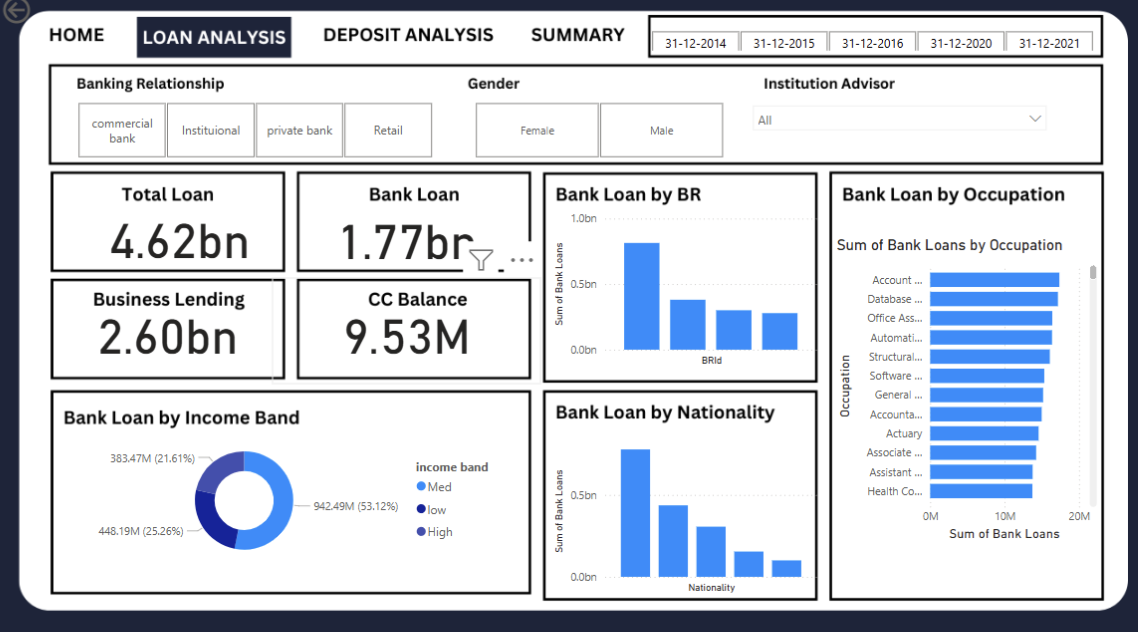

The page's visual inventory and layout, read from the dashboard file:
{"tool":"powerbi","page":{"name":"Loan Analysis","canvas":[1280,720],"ordinal":1},"visuals":[{"type":"card","fields":{"Values":["banking_case customer.Total Loan"]},"box":[52.1,211.6,300,118.4],"z":0},{"type":"slicer","fields":{"Values":["banking_case customer.Joined Bank"]},"box":[702.6,36.3,541.6,28.4],"z":1000},{"type":"actionButton","box":[37.9,20.5,104.2,61.6],"z":2000},{"type":"actionButton","box":[352.1,20.5,206.8,61.6],"z":3000},{"type":"actionButton","box":[570,20.5,146.8,61.6],"z":4000},{"type":"card","fields":{"Values":["Sum(banking_case customer.Bank Loans)"]},"box":[304.8,211,300.1,118.8],"z":5000},{"type":"card","fields":{"Values":["Sum(banking_case customer.Business Lending)"]},"box":[37.9,319,300,118.4],"z":6000},{"type":"actionButton","box":[0,0,100,40],"z":7000},{"type":"card","fields":{"Values":["Sum(banking_case customer.Credit Card Balance)"]},"box":[304.7,319,300,118.4],"z":8000},{"type":"donutChart","fields":{"Category":["banking_case customer.income band"],"Y":["Sum(banking_case customer.Bank Loans)"]},"box":[77.4,491.1,492.6,150],"z":9000},{"type":"clusteredColumnChart","fields":{"Category":["banking_case customer.BRId"],"Y":["Sum(banking_case customer.Bank Loans)"]},"box":[615.8,238.4,303.2,183.2],"z":10000},{"type":"clusteredColumnChart","fields":{"Category":["banking_case customer.Nationality"],"Y":["Sum(banking_case customer.Bank Loans)"]},"box":[615.8,491.1,303.2,183.2],"z":11000},{"type":"barChart","fields":{"Category":["banking_case customer.Occupation"],"Y":["Sum(banking_case customer.Bank Loans)"]},"box":[930,271.6,300,344.2],"z":12000},{"type":"slicer","fields":{"Values":["banking_case customer.BRId"]},"box":[63.2,116.8,443.7,74.2],"z":13000},{"type":"slicer","fields":{"Values":["banking_case customer.GenderId"]},"box":[506.8,116.8,325.3,74.2],"z":14000},{"type":"slicer","fields":{"Values":["banking_case customer.IAId"]},"box":[832.1,116.8,347.4,56.8],"z":15000}]}

Visuals, with their boxes in screenshot pixels (x1, y1, x2, y2), scaled from the page's 1280x720 canvas onto the 1138x632 screenshot:
card - banking_case customer.Total Loan: <box>46,186,313,290</box>
slicer - banking_case customer.Joined Bank: <box>625,32,1106,57</box>
actionButton: <box>34,18,126,72</box>
actionButton: <box>313,18,497,72</box>
actionButton: <box>507,18,637,72</box>
card - Sum(banking_case customer.Bank Loans): <box>271,185,538,289</box>
card - Sum(banking_case customer.Business Lending): <box>34,280,300,384</box>
actionButton: <box>0,0,89,35</box>
card - Sum(banking_case customer.Credit Card Balance): <box>271,280,538,384</box>
donutChart - banking_case customer.income band x Sum(banking_case customer.Bank Loans): <box>69,431,507,563</box>
clusteredColumnChart - banking_case customer.BRId x Sum(banking_case customer.Bank Loans): <box>547,209,817,370</box>
clusteredColumnChart - banking_case customer.Nationality x Sum(banking_case customer.Bank Loans): <box>547,431,817,592</box>
barChart - banking_case customer.Occupation x Sum(banking_case customer.Bank Loans): <box>827,238,1094,541</box>
slicer - banking_case customer.BRId: <box>56,103,451,168</box>
slicer - banking_case customer.GenderId: <box>451,103,740,168</box>
slicer - banking_case customer.IAId: <box>740,103,1049,152</box>
